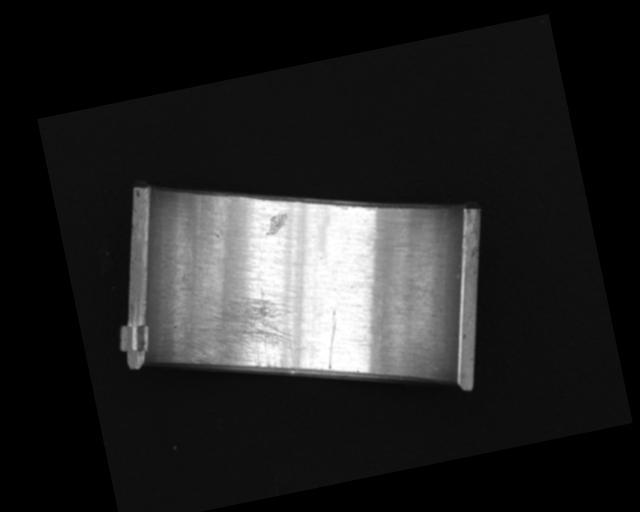bruise: (262, 212, 290, 236)
nick: (404, 208, 463, 299), (317, 309, 348, 370)
scratch: (180, 283, 304, 392)
